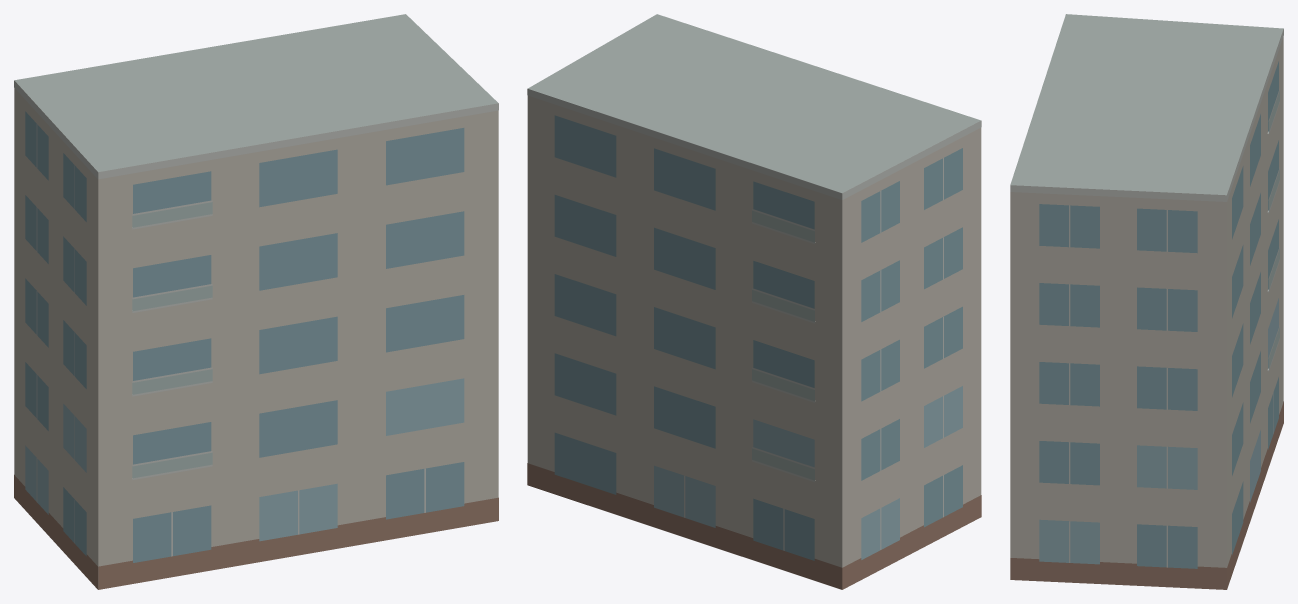
Rendered from survey-upis-32643127.glb.
The picture shows the model from 3 angles, left to right: view 1: azimuth 30°, elevation 25°; view 2: azimuth 150°, elevation 25°; view 3: azimuth 270°, elevation 25°; orthographic projection. The views are drawn at different scales.
Parts seen in each view (by area): view 1: survey-upis-32643127.tmp; view 2: survey-upis-32643127.tmp; view 3: survey-upis-32643127.tmp.
Part boxes in pixels (x1=…): survey-upis-32643127.tmp: x1=14, y1=14, x2=498, y2=589; survey-upis-32643127.tmp: x1=527, y1=14, x2=981, y2=589; survey-upis-32643127.tmp: x1=1010, y1=14, x2=1283, y2=589.
Bounding box in the file's own units: 13.94 × 14.15 × 8.9.
